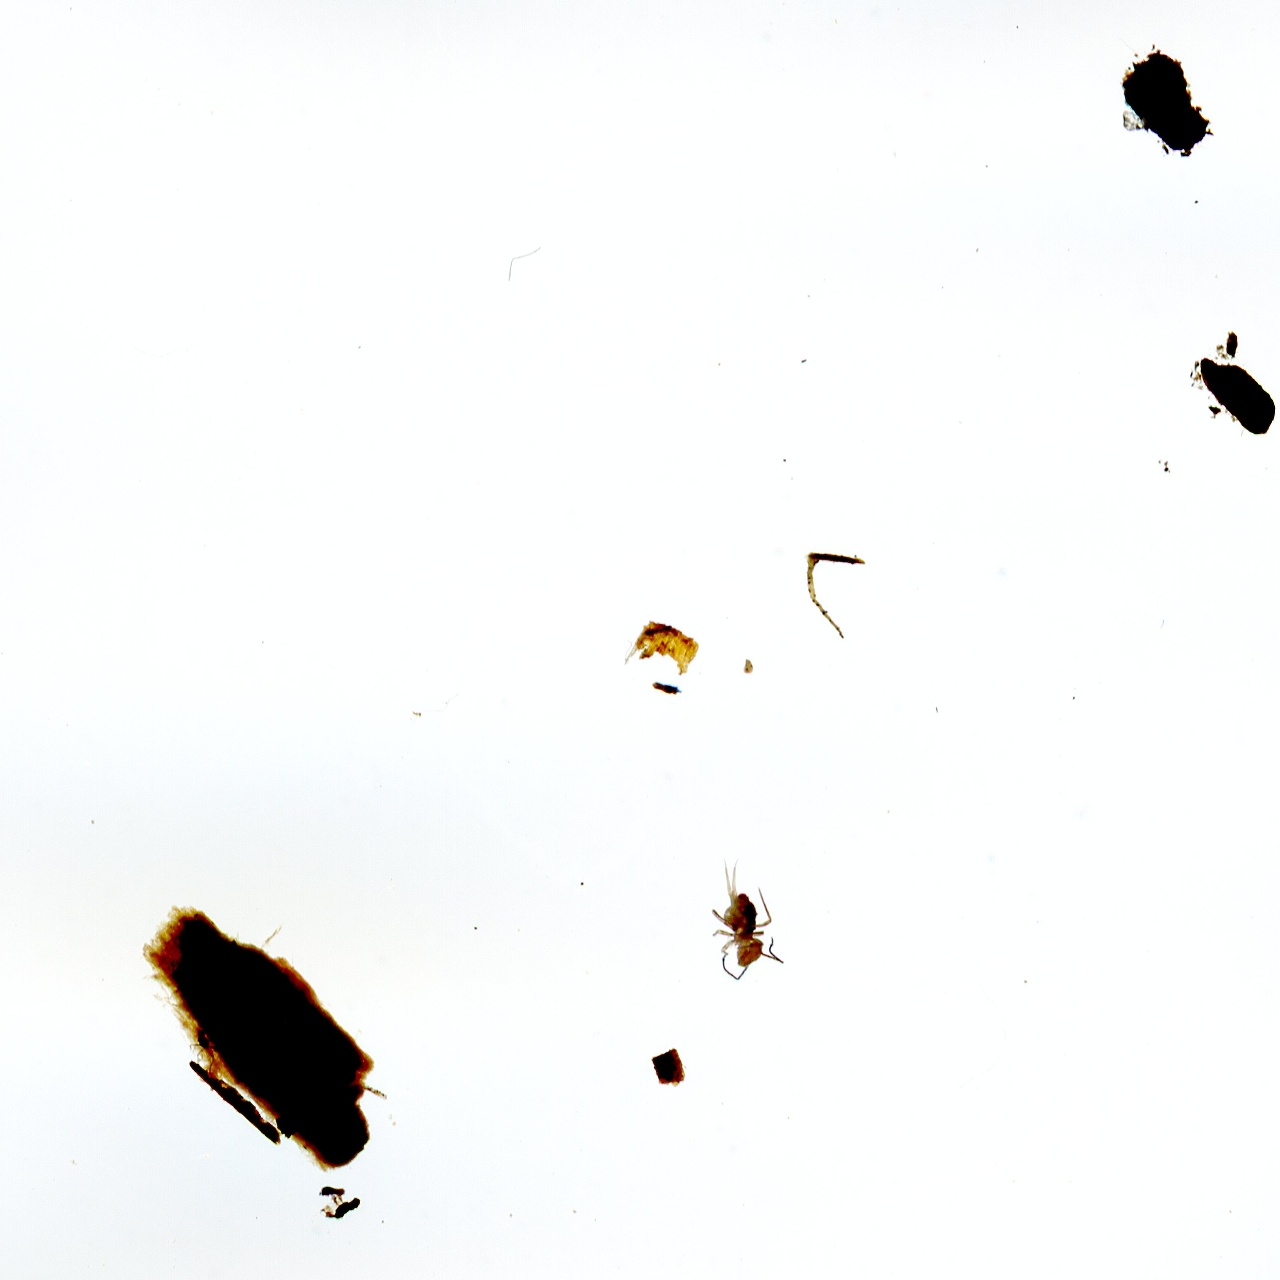arthropod: (706, 851, 782, 979)
